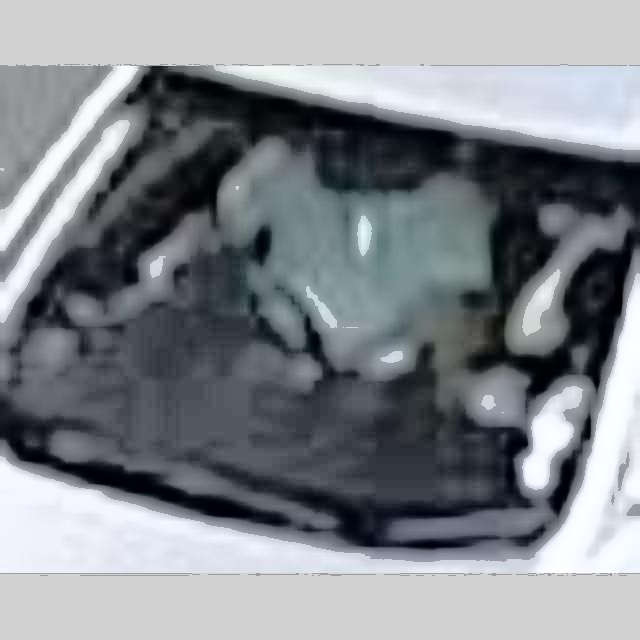tidak-pakai: (203, 152, 468, 417)
